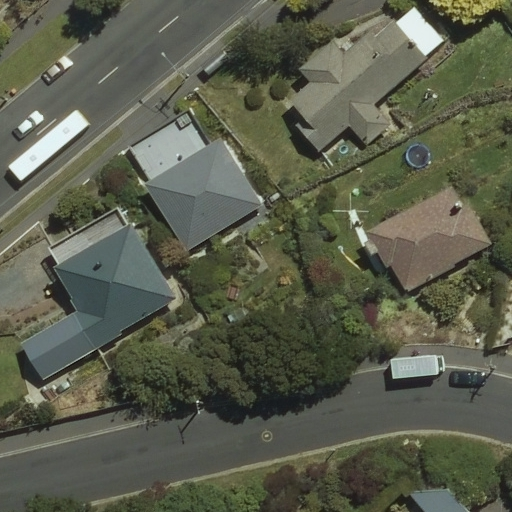DT: (156, 44, 198, 89)
